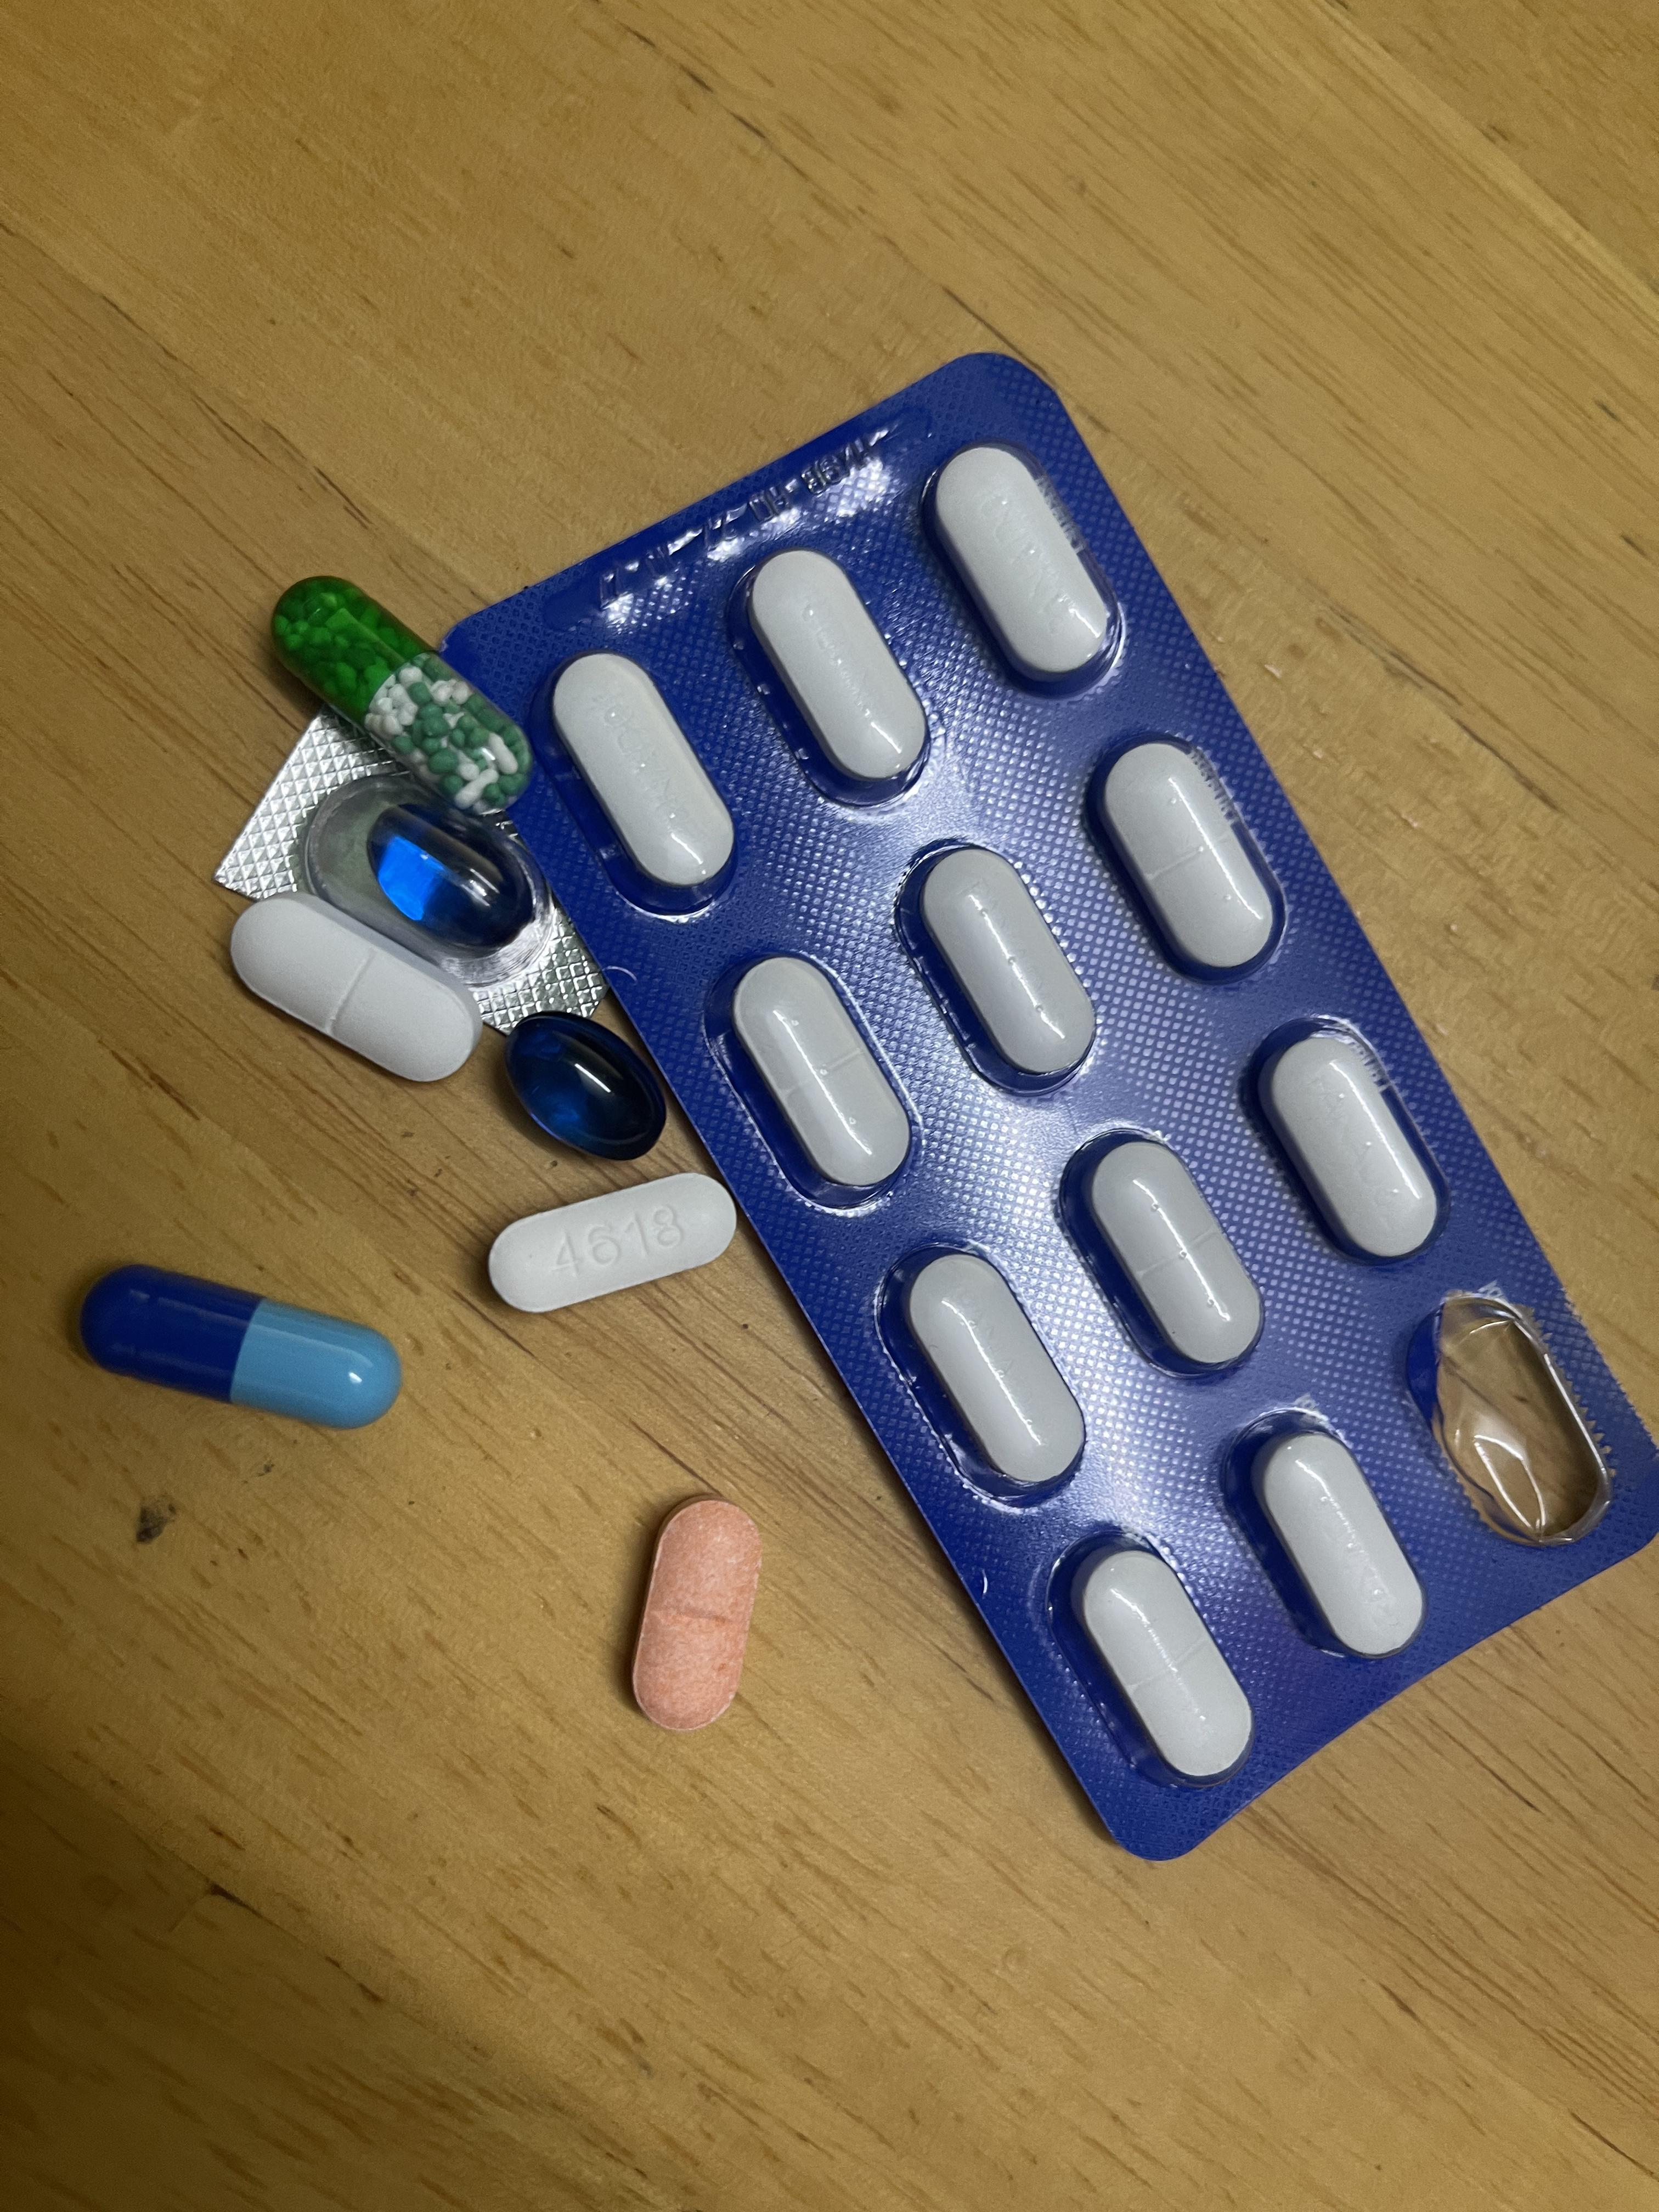Lincomyxin_500mg: (507, 1017, 664, 1155), (369, 813, 518, 944)
Loratadine_10mg: (627, 1496, 763, 1728)
Paracetamol_350mg: (1063, 1134, 1263, 1383), (227, 892, 484, 1083), (542, 653, 737, 902), (1249, 1019, 1446, 1264), (741, 549, 932, 798), (894, 1244, 1086, 1489), (1068, 1541, 1253, 1785), (931, 444, 1117, 685), (913, 843, 1096, 1085), (1103, 738, 1281, 975), (734, 958, 911, 1195), (1249, 1428, 1427, 1656)
Paracetamol_500mg: (491, 1177, 734, 1317)
Paracetamol_650mg: (274, 580, 525, 803)
pill: (84, 1270, 396, 1426)
